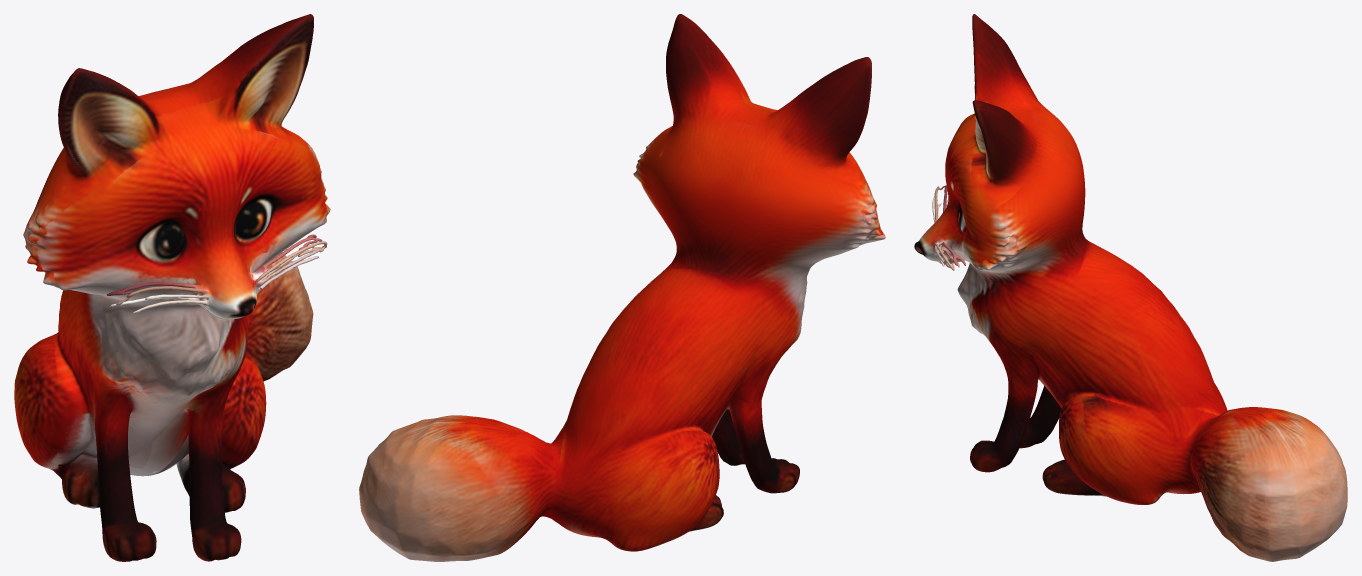
File: goodcase0304_185.glb
The picture shows the model from 3 angles, left to right: view 1: azimuth 30°, elevation 25°; view 2: azimuth 150°, elevation 25°; view 3: azimuth 270°, elevation 25°; orthographic projection. The views are drawn at different scales.
Visible parts, largest first — view 1: object.001; view 2: object.001; view 3: object.001.
Part boxes in pixels (x1=…): object.001: x1=14, y1=14, x2=330, y2=561; object.001: x1=359, y1=14, x2=885, y2=561; object.001: x1=914, y1=14, x2=1347, y2=561.
Size of the model in its own units: 0.7033 by 0.7925 by 0.7683.
1 material, 1 textured.
